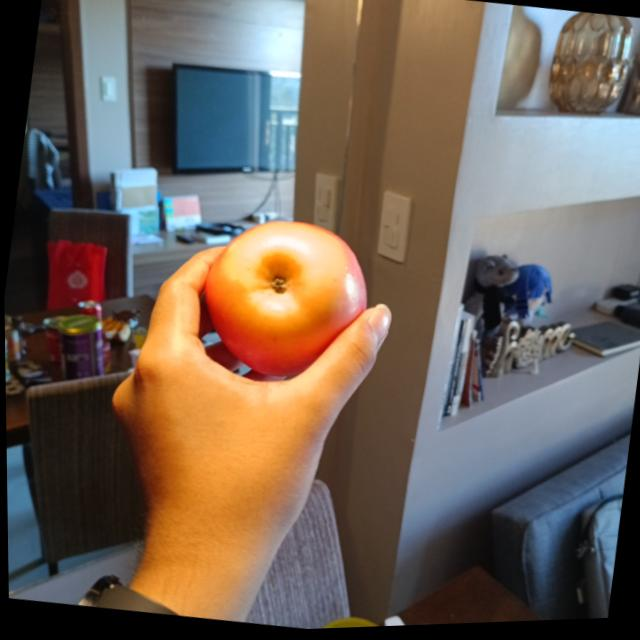apple: (193, 210, 377, 389)
